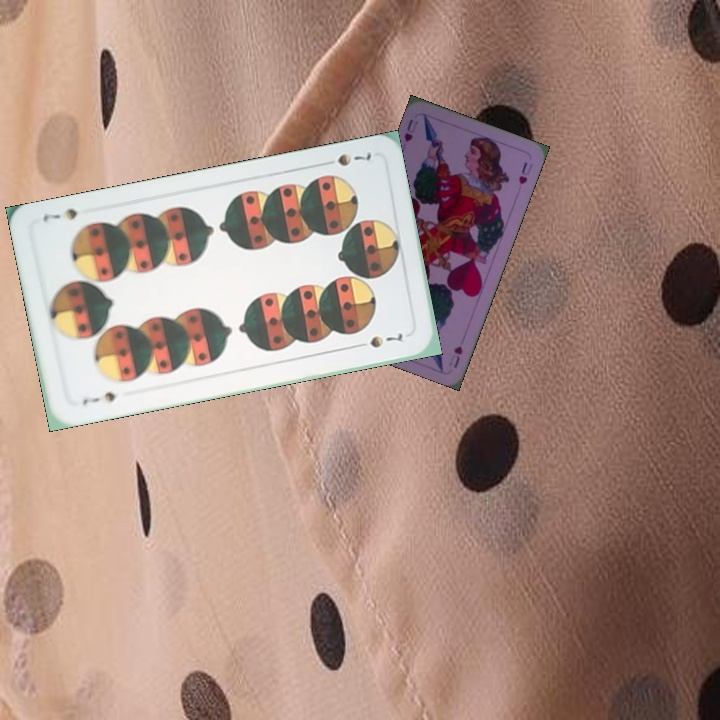HU: (400, 115, 417, 145), (449, 341, 465, 371)
S7: (317, 149, 374, 169), (78, 387, 118, 408)
